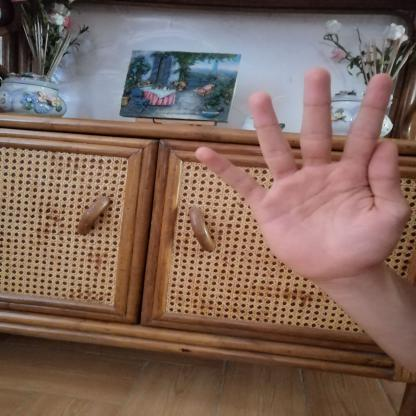SHEEN: (178, 55, 415, 283)
